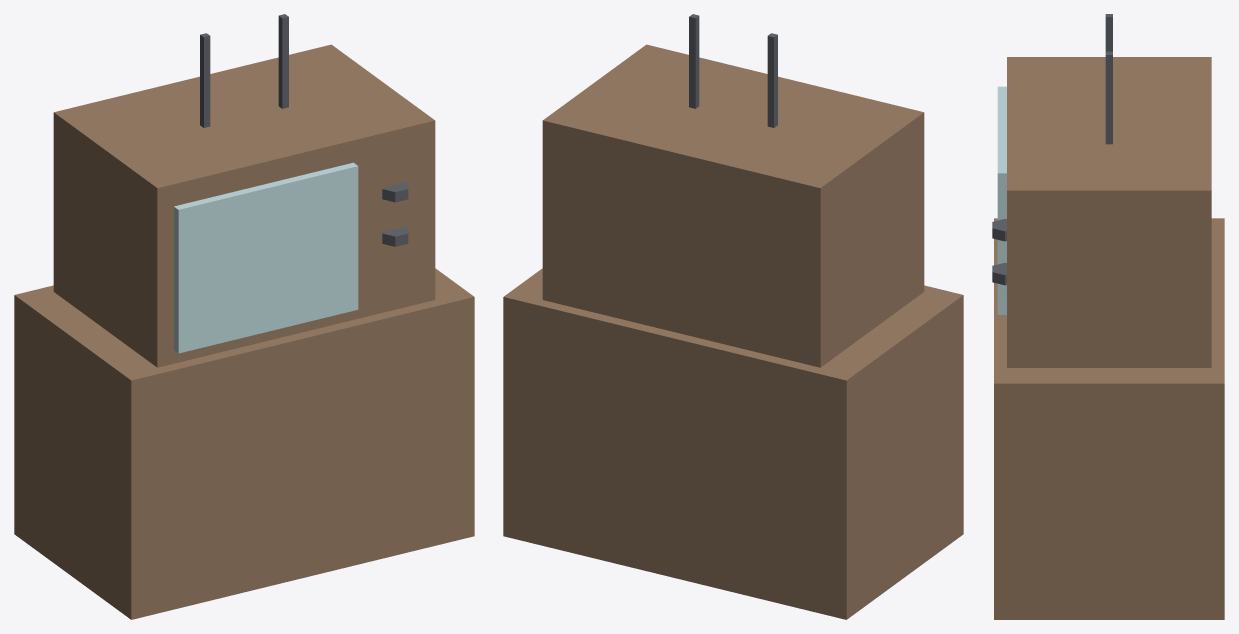
The model's file is haunted_tv_retro.glb.
3 views of the same model, side by side, from view 1: azimuth 30°, elevation 25°; view 2: azimuth 150°, elevation 25°; view 3: azimuth 270°, elevation 25° (orthographic).
Visible parts, largest first — view 1: Haunted_TV_Retro; view 2: Haunted_TV_Retro; view 3: Haunted_TV_Retro.
Boxes of the visible parts, box(x1,y1,x2,y2) form: Haunted_TV_Retro: box(14, 14, 474, 619); Haunted_TV_Retro: box(503, 14, 963, 619); Haunted_TV_Retro: box(992, 14, 1224, 619).
Size of the model in its own units: 1.05 by 1.49 by 0.6246.
